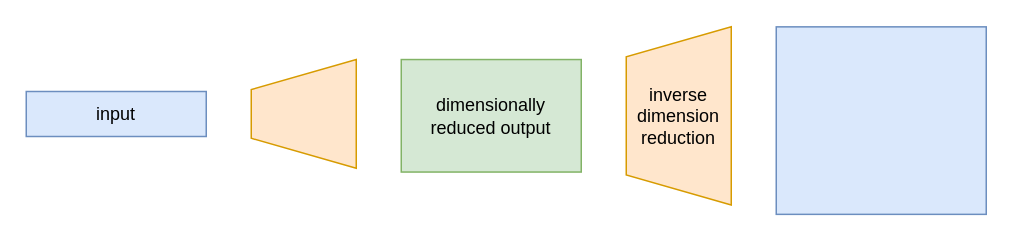
Image size: 1013x242. Some labels were removed from this diagram. Here are the shapes that lost their labels. From the top down, the box of each, then its label:
(250, 58, 356, 168): MLP
(775, 25, 986, 214): complete output
